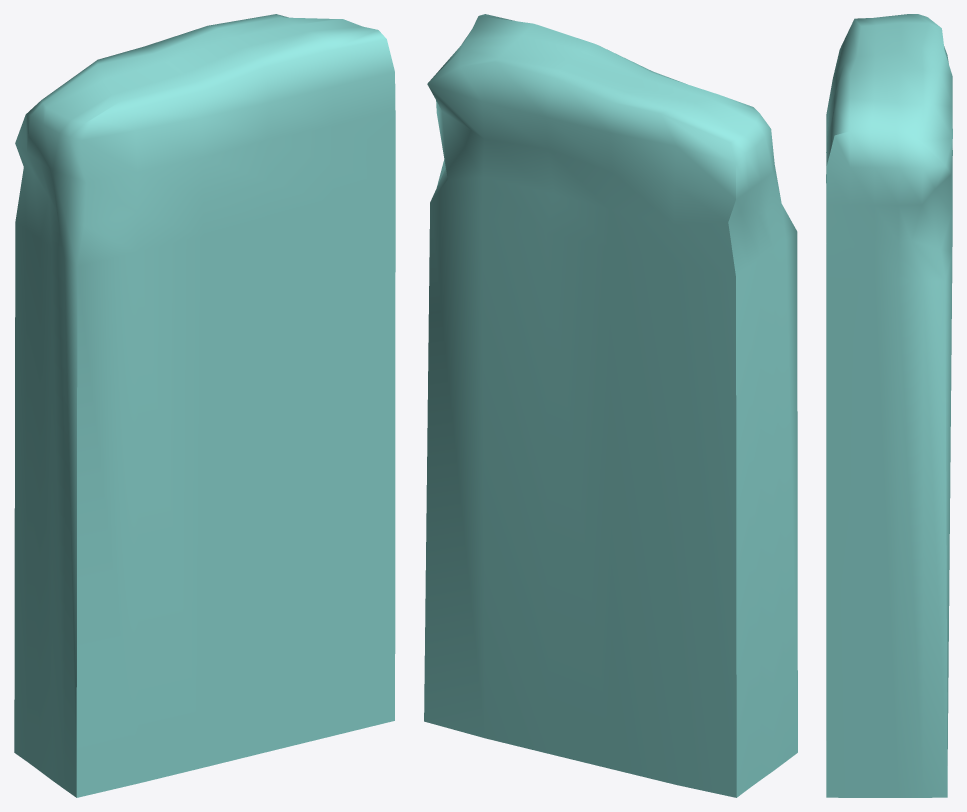
3 renders of one model, left to right at view 1: azimuth 30°, elevation 25°; view 2: azimuth 150°, elevation 25°; view 3: azimuth 270°, elevation 25°, orthographic. The views are drawn at different scales.
Visible parts, largest first — view 1: Cube.006; view 2: Cube.006; view 3: Cube.006.
Boxes of the visible parts, x1,y1,x2,y2 form: Cube.006: (14, 14, 395, 797); Cube.006: (424, 14, 797, 797); Cube.006: (826, 14, 952, 797).
Size of the model in its own units: 1814 by 3740 by 639.
